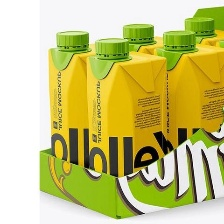carton: (84, 35, 167, 186), (154, 28, 224, 154), (42, 27, 100, 171), (109, 17, 168, 61), (168, 14, 223, 50)
